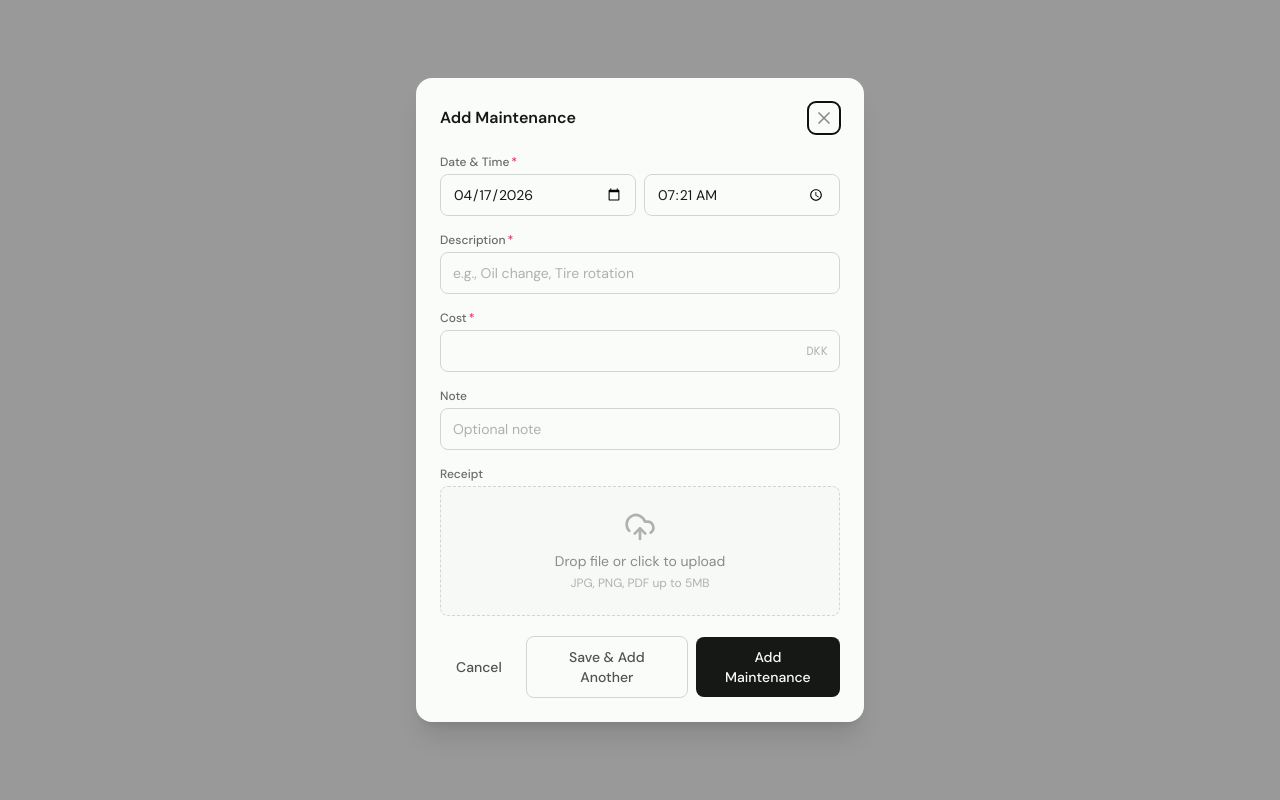
Test: MaintenanceDialog › Validation › shows error when cost is empty on submit
Type "Oil change" into the field with id "maintenance-description". click: (640, 273)
box: [440, 252, 840, 294]
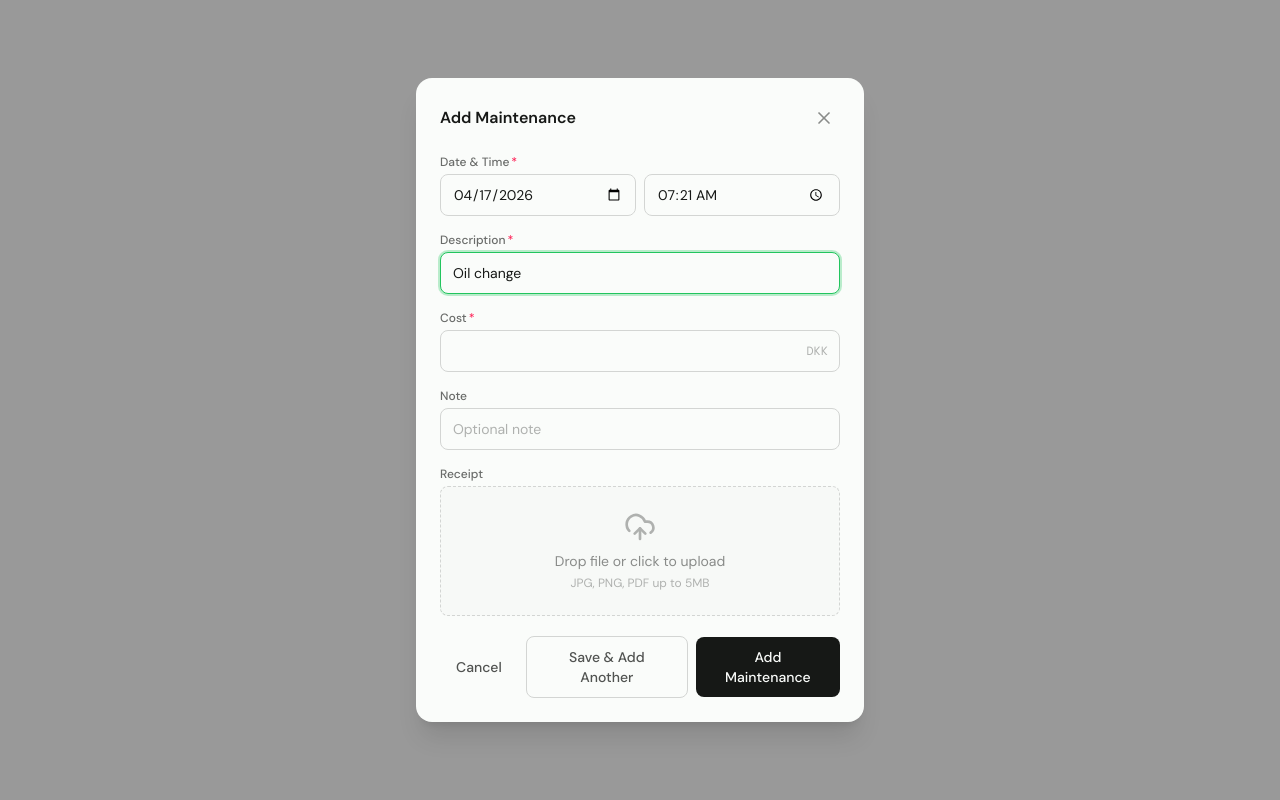
Click the button "Add Maintenance". click: (768, 667)
box: [696, 637, 840, 697]
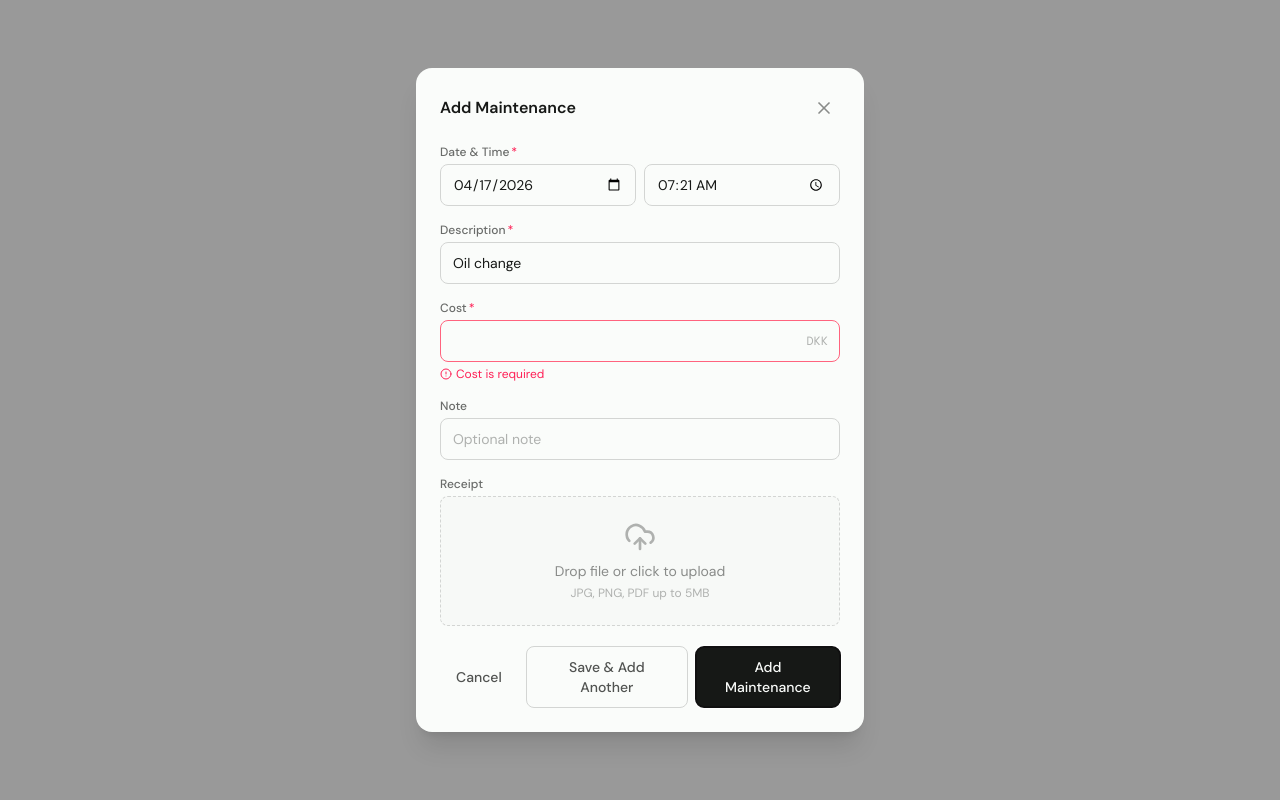
Expected: the text "Cost is required" is shown, [440, 366, 544, 382]
